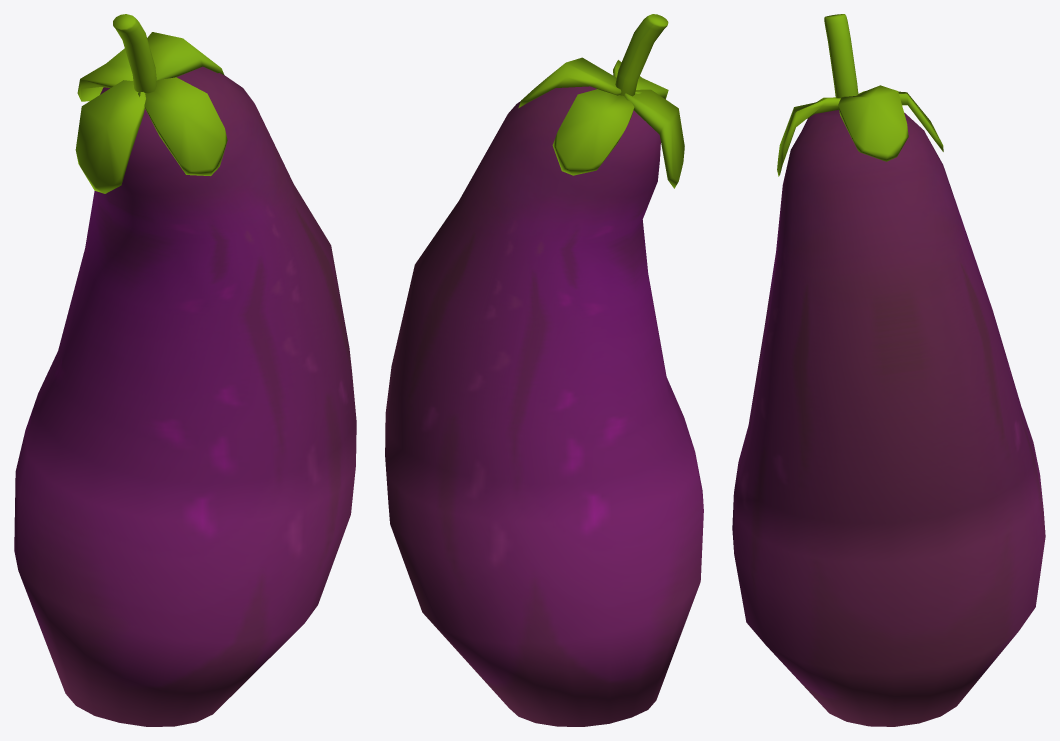
The model's file is purple_eggplant.glb.
The picture shows the model from 3 angles, left to right: view 1: azimuth 30°, elevation 25°; view 2: azimuth 150°, elevation 25°; view 3: azimuth 270°, elevation 25°; orthographic projection. The views are drawn at different scales.
Visible parts, largest first — view 1: purple_eggplant; view 2: purple_eggplant; view 3: purple_eggplant.
Boxes of the visible parts, bbox=[...] form: purple_eggplant: bbox=[14, 14, 356, 726]; purple_eggplant: bbox=[385, 14, 703, 726]; purple_eggplant: bbox=[732, 14, 1045, 726].
Size of the model in its own units: 0.5122 by 1.18 by 0.5079.
Materials: 1 (1 with a texture image).
